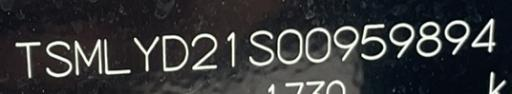letter: (12, 38, 44, 79), (71, 36, 103, 76), (188, 31, 220, 70), (102, 35, 132, 76), (43, 37, 73, 78), (245, 28, 275, 68), (159, 33, 189, 72), (414, 18, 444, 56), (304, 25, 334, 63), (274, 26, 304, 64), (132, 33, 160, 73), (470, 15, 498, 54), (360, 22, 388, 61), (332, 23, 360, 62), (388, 21, 414, 59), (444, 19, 470, 56), (225, 29, 239, 69)
